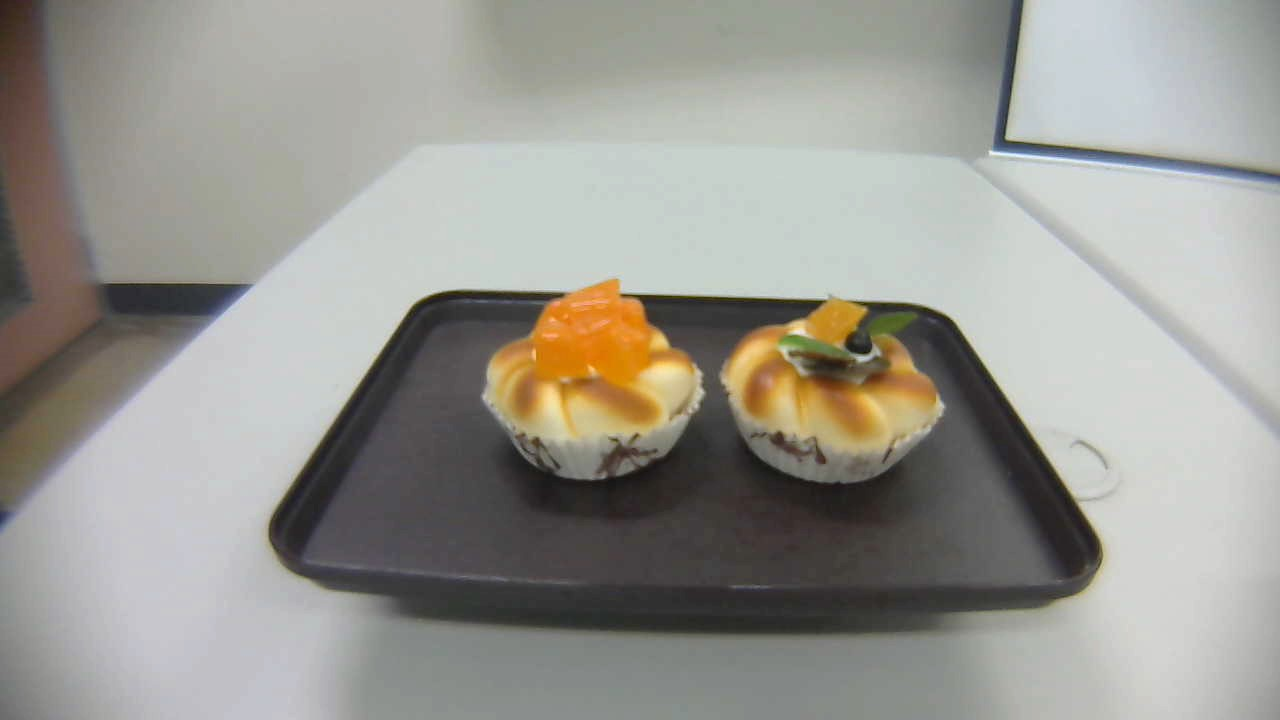fruit tart: (717, 293, 946, 487)
mango tart: (481, 276, 708, 482)
